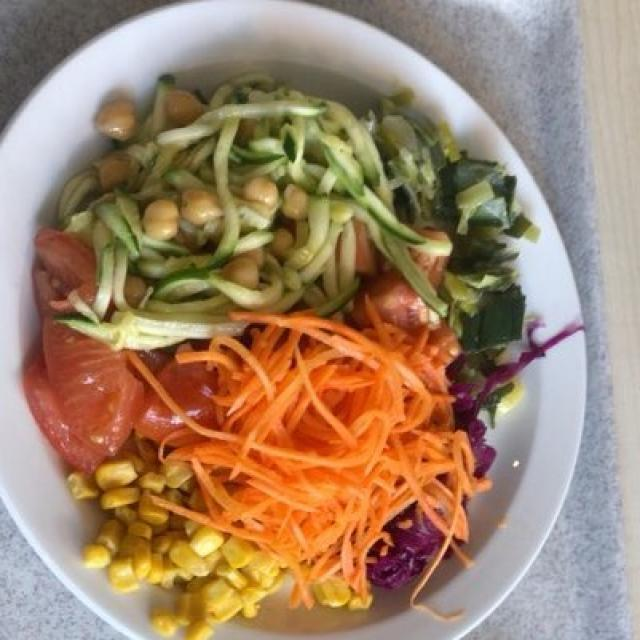cabbage: (374, 363, 506, 588)
carrot: (164, 315, 492, 586)
chickpeas: (90, 72, 317, 289)
corn: (63, 461, 372, 636)
leek: (383, 106, 530, 353)
tomato: (28, 243, 217, 478)
zucchini: (67, 95, 445, 356)
